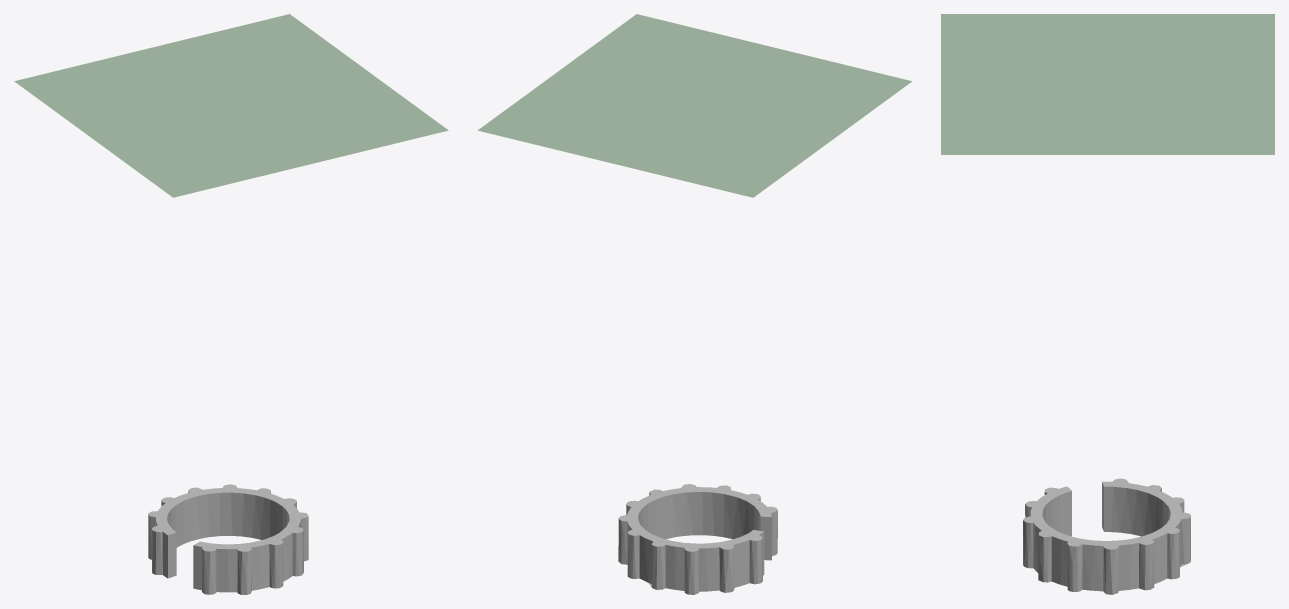
Rendered from init.glb.
3 views of the same model, side by side, from view 1: azimuth 30°, elevation 25°; view 2: azimuth 150°, elevation 25°; view 3: azimuth 270°, elevation 25° (orthographic). The views are drawn at different scales.
Visible parts, largest first — view 1: world, object.obj; view 2: world, object.obj; view 3: world, object.obj.
Part boxes in pixels (x1,y1,x2,y2): world: (14,14,448,197); object.obj: (148,484,308,594); world: (478,14,911,197); object.obj: (618,484,777,594); world: (941,14,1274,154); object.obj: (1023,478,1190,594).
Size of the model in its own units: 0.6343 by 0.999 by 0.6343.
